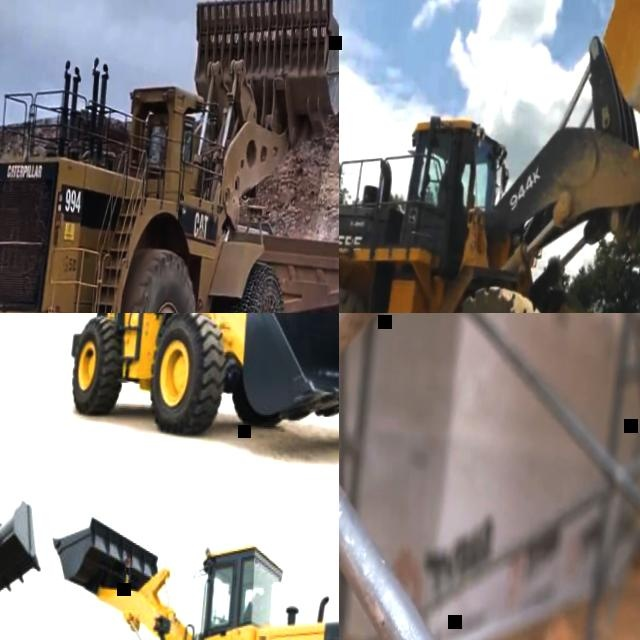Person: (437, 158, 471, 244)
machinery: (0, 0, 339, 313), (339, 0, 640, 313), (32, 505, 339, 640), (60, 313, 339, 449), (211, 225, 339, 313)
